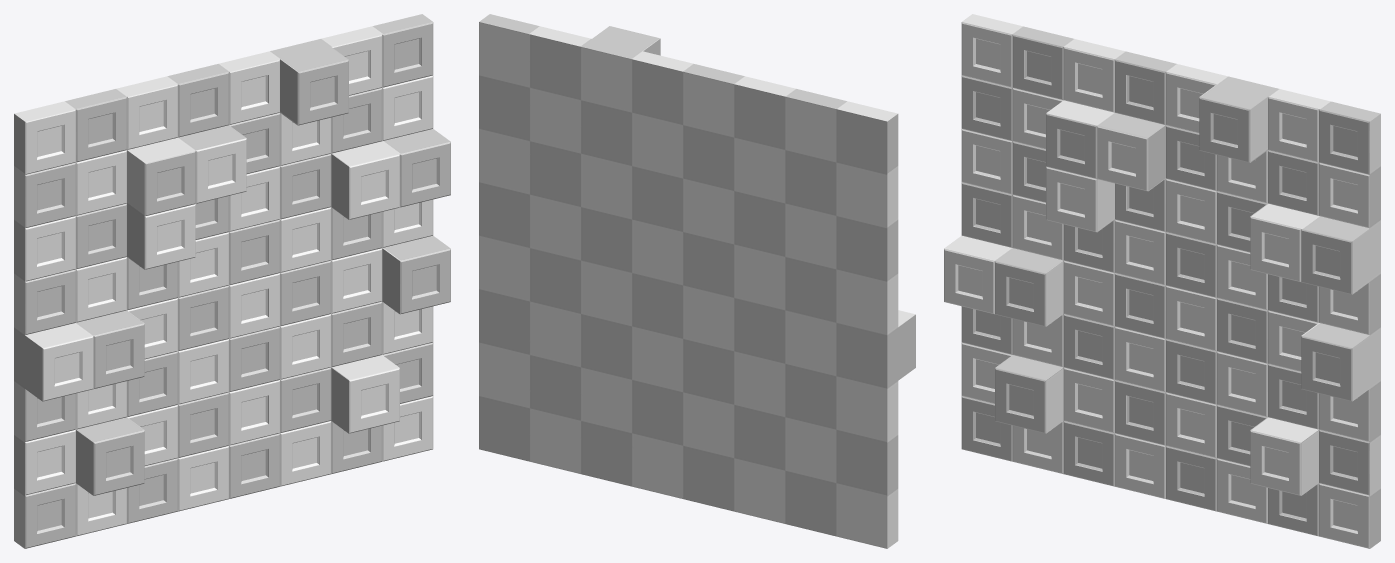
The picture shows the model from 3 angles, left to right: view 1: azimuth 30°, elevation 25°; view 2: azimuth 150°, elevation 25°; view 3: azimuth 330°, elevation 25°; orthographic projection.
Visible parts, largest first — view 1: Plane_Plane.001; view 2: Plane_Plane.001; view 3: Plane_Plane.001.
Boxes of the visible parts, bbox=[...] form: Plane_Plane.001: bbox=[14, 14, 450, 548]; Plane_Plane.001: bbox=[479, 14, 915, 548]; Plane_Plane.001: bbox=[944, 14, 1380, 548].
Bounding box in the file's own units: 20 × 20 × 2.46.
Materials: 1 (1 with a texture image).
